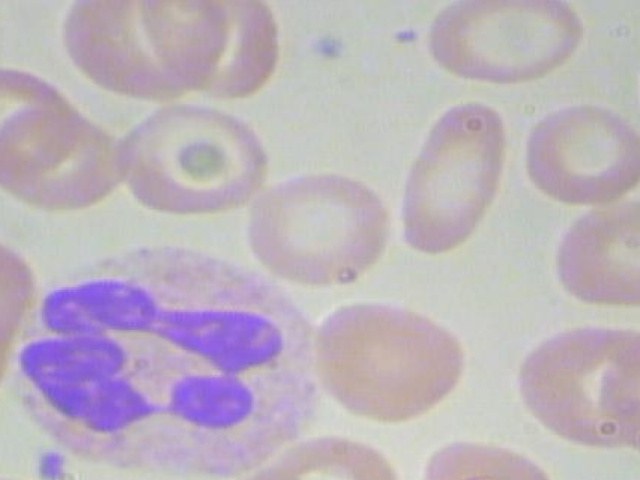Platelets: (303, 28, 352, 66), (29, 443, 68, 480)
RBC: (306, 293, 480, 427), (104, 99, 284, 216), (395, 93, 513, 264), (35, 0, 223, 105), (242, 172, 403, 290), (412, 0, 594, 92), (146, 0, 286, 105), (514, 104, 640, 213), (539, 198, 640, 317), (0, 66, 76, 173), (598, 312, 640, 460), (0, 227, 40, 352), (620, 16, 640, 146), (0, 304, 20, 414)
WBC: (8, 239, 345, 480)
